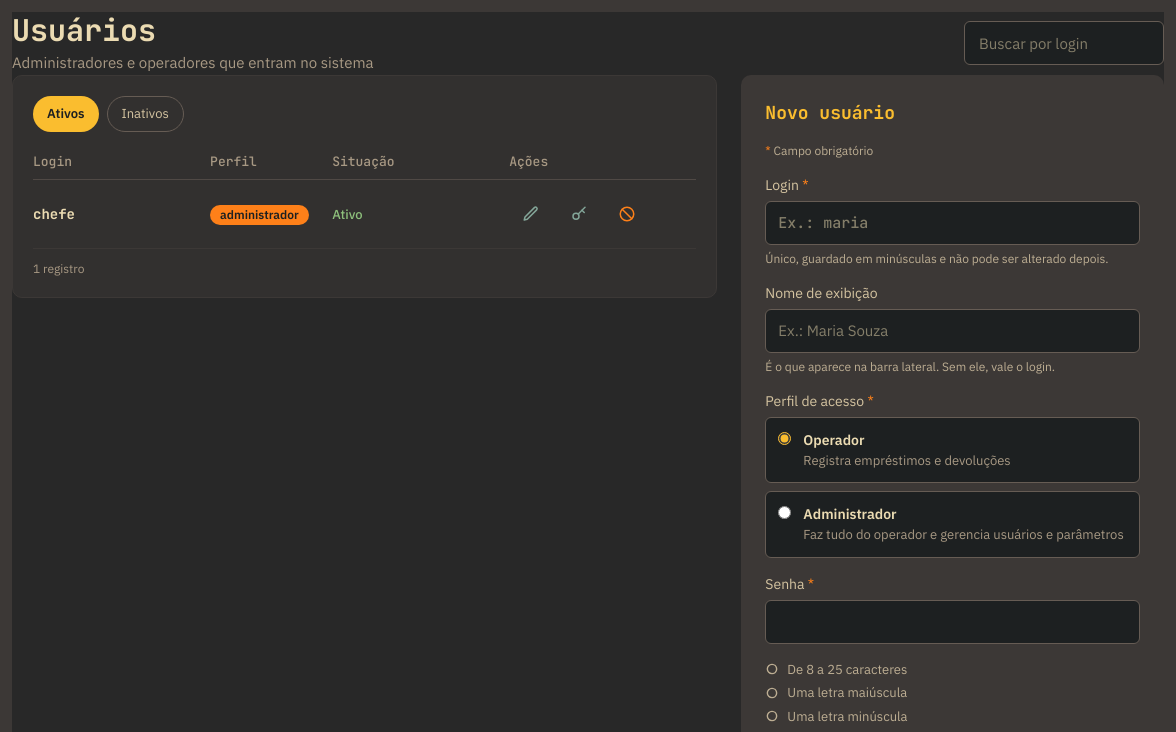
Scenario: usuários: reativação › mostra a recusa da API e não muda nada na tela
Click the button "Inativos" at x=145, y=114, box [106, 96, 184, 132]
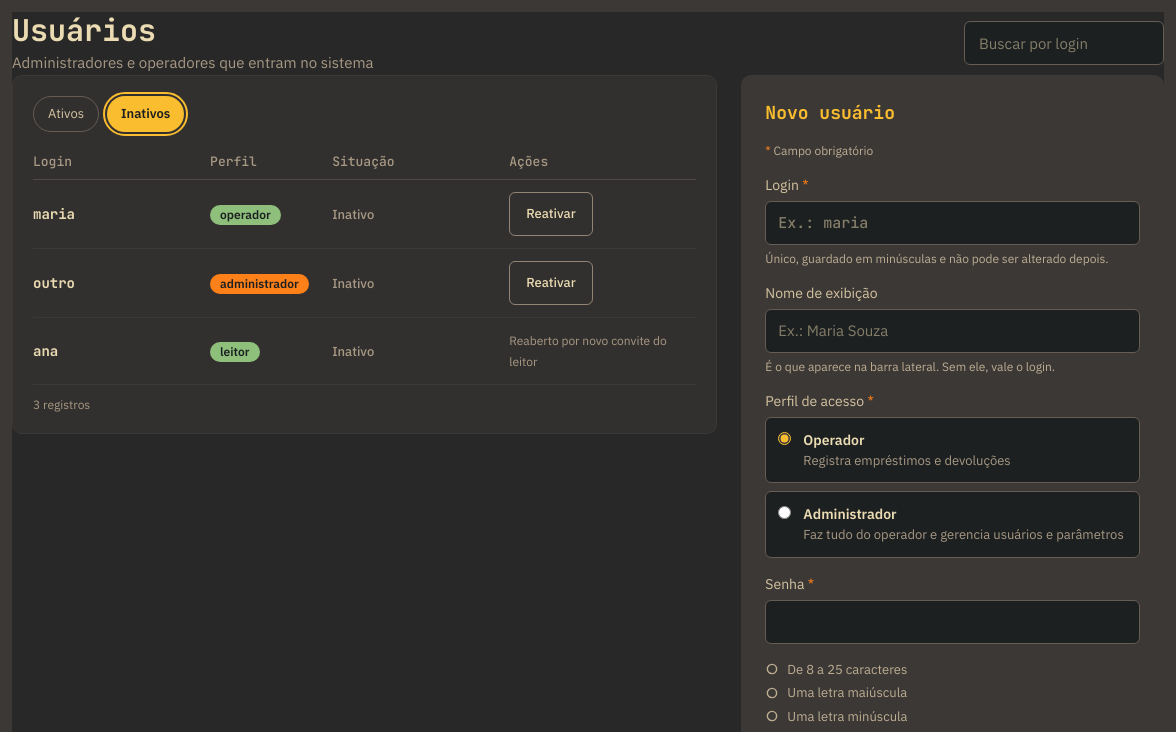
Click the button with aria-label "Reativar maria" at x=551, y=214, box [509, 192, 593, 236]
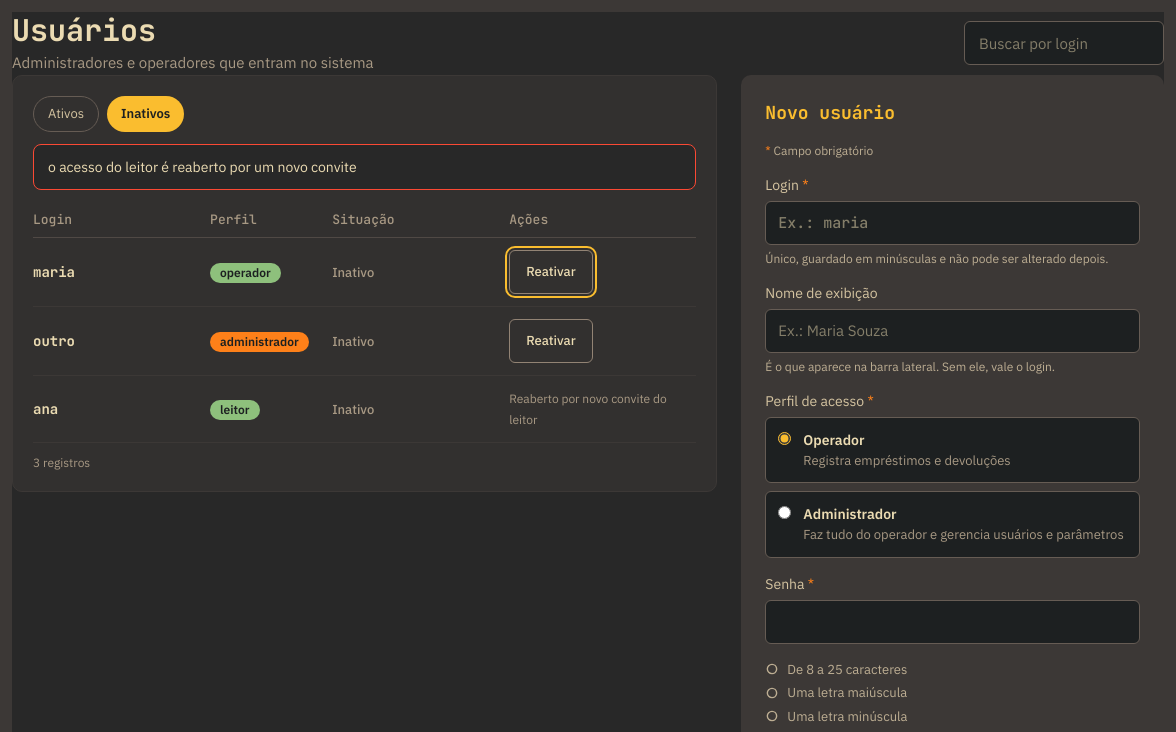
Now the button with aria-label "Reativar maria" is shown, box [509, 250, 593, 294]
Now the button with aria-label "Reativar outro" is shown, box [509, 319, 593, 363]
Now the text "o acesso do leitor é reaberto por um novo convite" is shown, box [48, 156, 357, 176]
